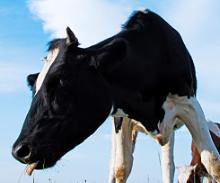cow: (11, 8, 220, 183), (176, 120, 220, 183)
